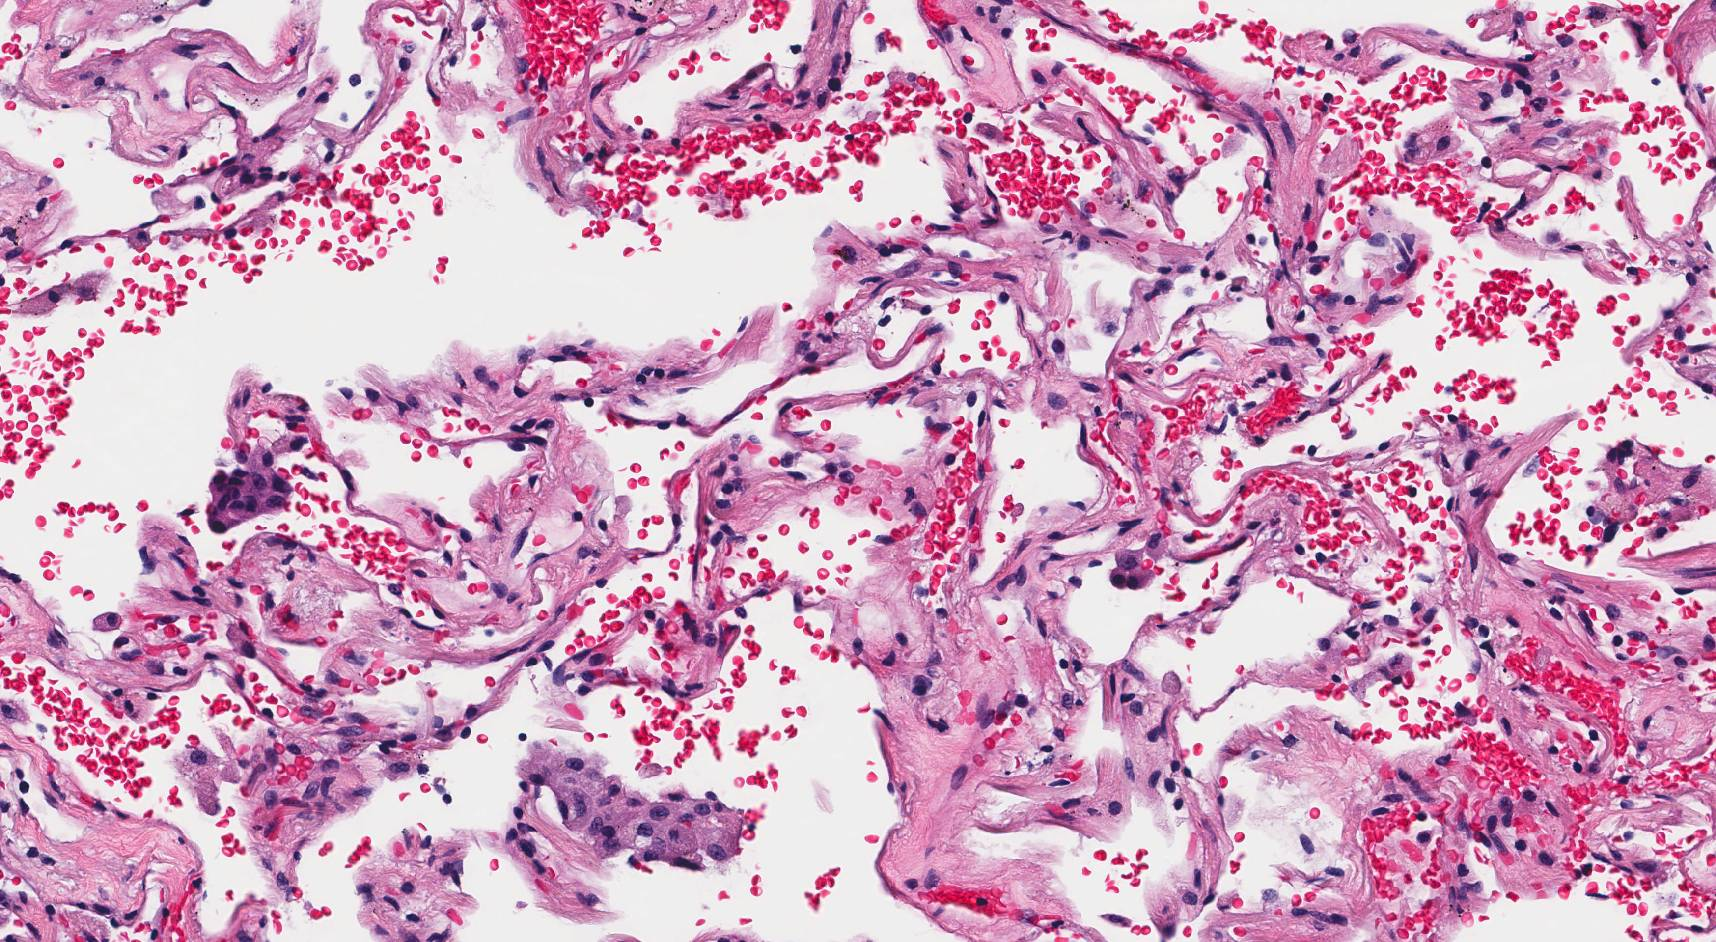stas: (206, 444, 295, 533)
